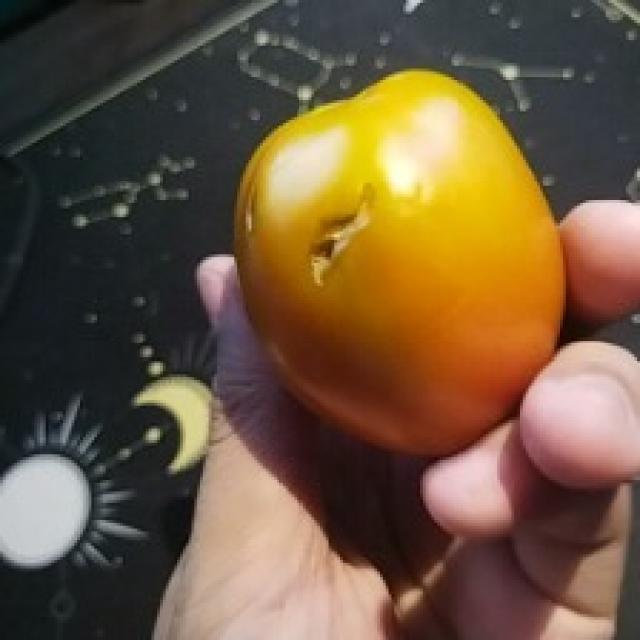Rotten Tomato: (200, 38, 606, 476)
